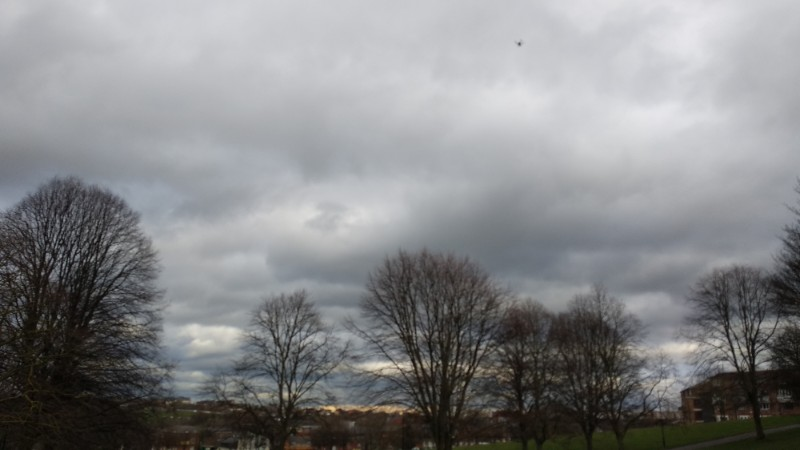drone: (514, 39, 526, 50)
